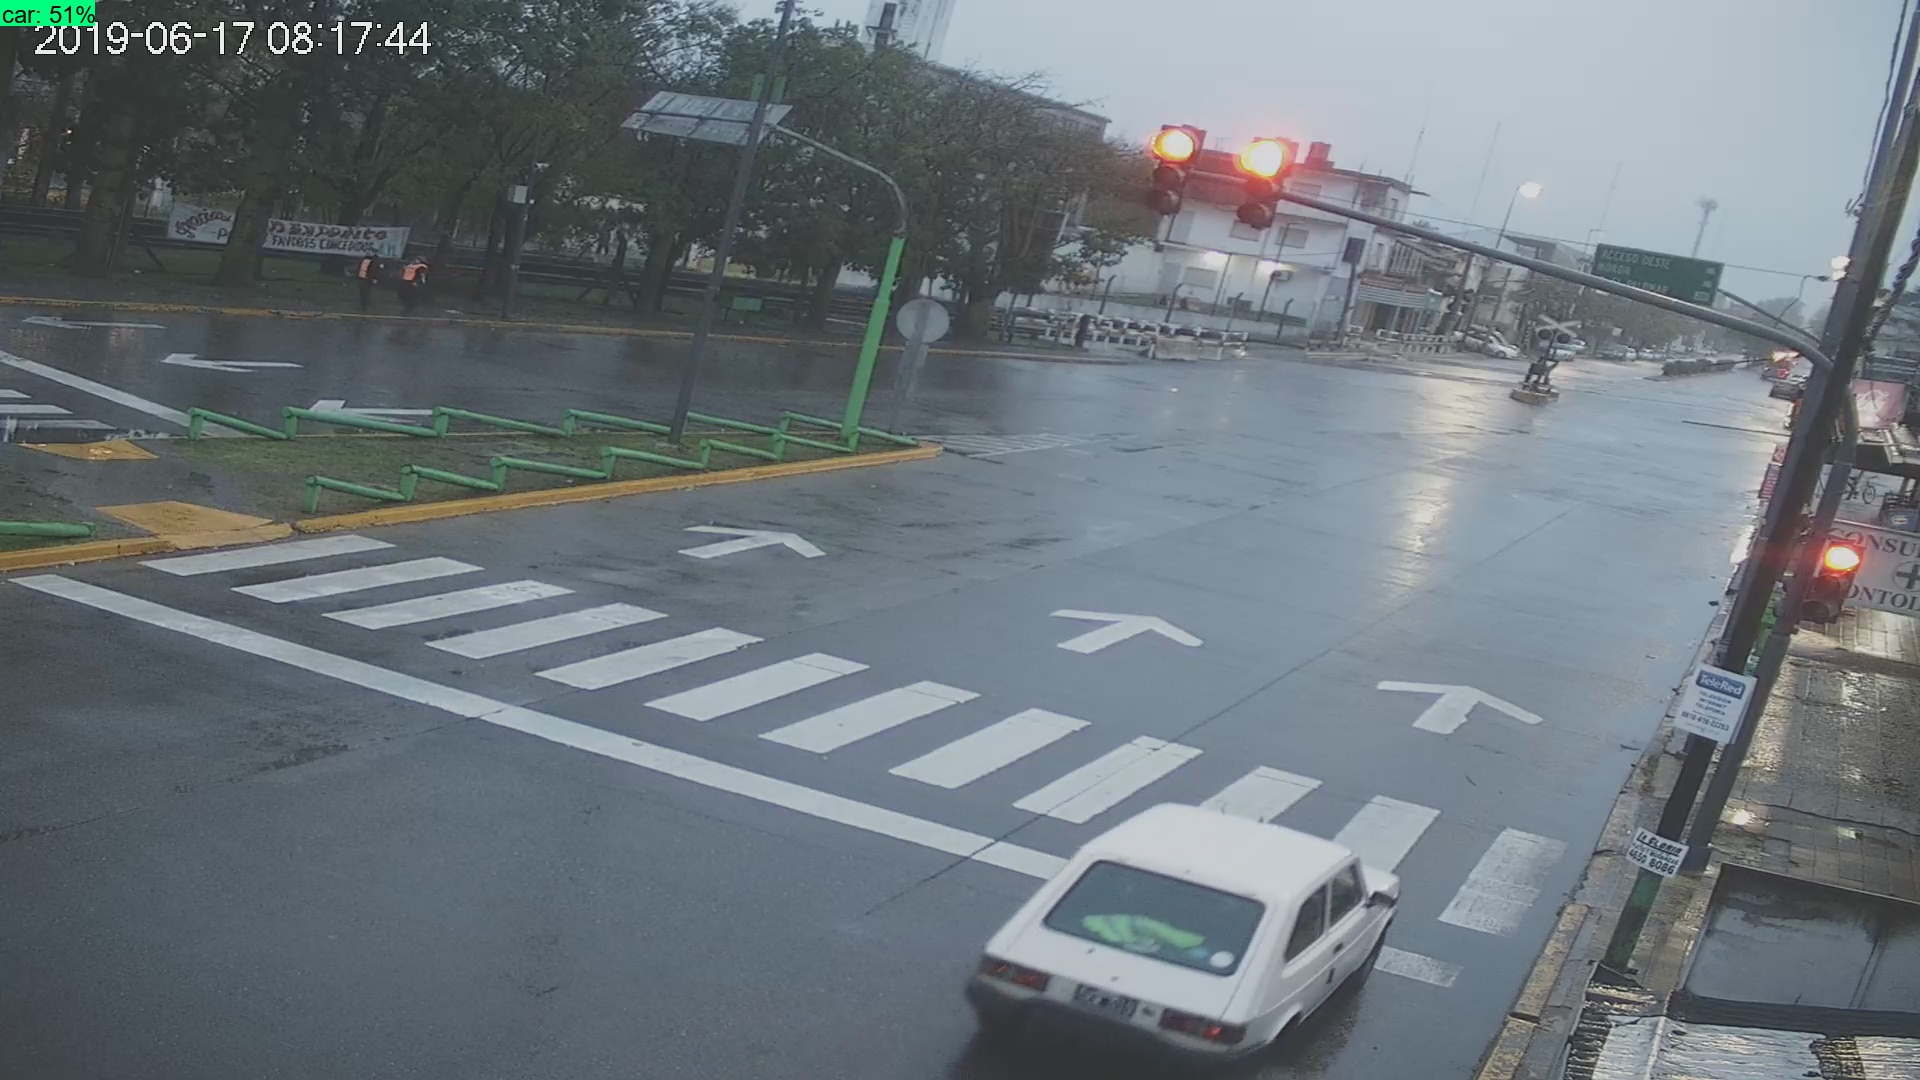car: (959, 796, 1415, 1080)
